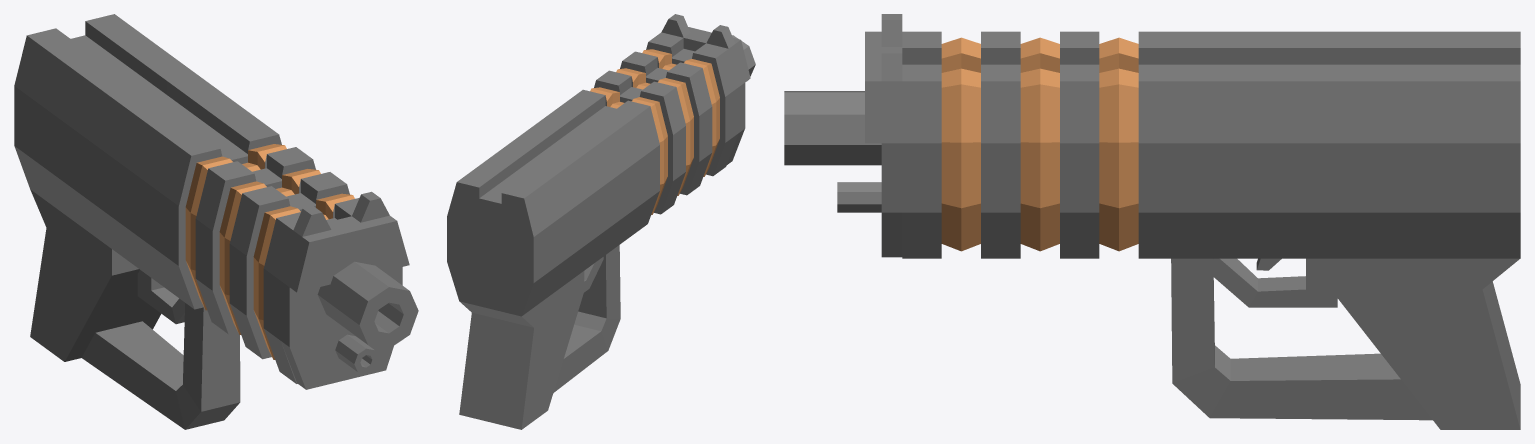
Rendered from Hand Gun Type One.fbx.
3 views of the same model, side by side, from view 1: azimuth 30°, elevation 25°; view 2: azimuth 150°, elevation 25°; view 3: azimuth 270°, elevation 25° (orthographic). The views are drawn at different scales.
Parts seen in each view (by area): view 1: Hand Gun Type One; view 2: Hand Gun Type One; view 3: Hand Gun Type One.
Part boxes in pixels (left/top/right/bottom): Hand Gun Type One: left=14, top=14, right=418, bottom=429; Hand Gun Type One: left=447, top=14, right=755, bottom=429; Hand Gun Type One: left=784, top=14, right=1520, bottom=429.
Bounding box in the file's own units: 16.05 × 43.76 × 78.14.
